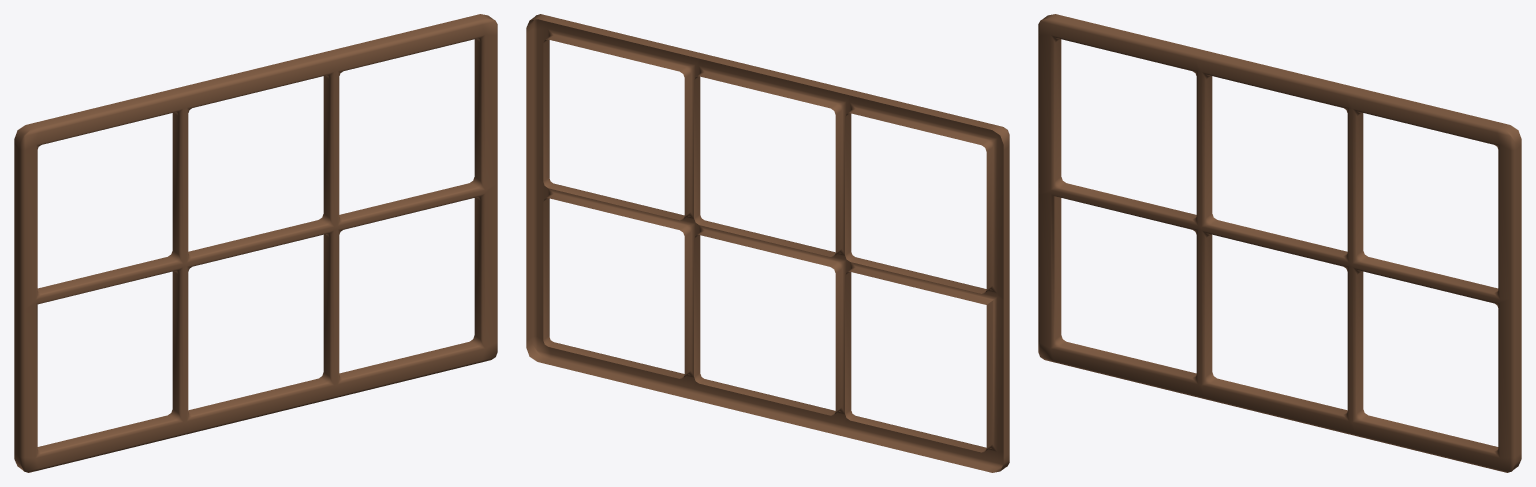
The model's file is FruitSensei_Window.fbx.
The picture shows the model from 3 angles, left to right: view 1: azimuth 30°, elevation 25°; view 2: azimuth 150°, elevation 25°; view 3: azimuth 330°, elevation 25°; orthographic projection.
Visible parts, largest first — view 1: Plane; view 2: Plane; view 3: Plane.
Part boxes in pixels (x1,y1,x2,y2): Plane: (14,14,497,472); Plane: (526,14,1009,472); Plane: (1038,14,1521,472).
Size of the model in its own units: 291 by 200 by 8.18.
